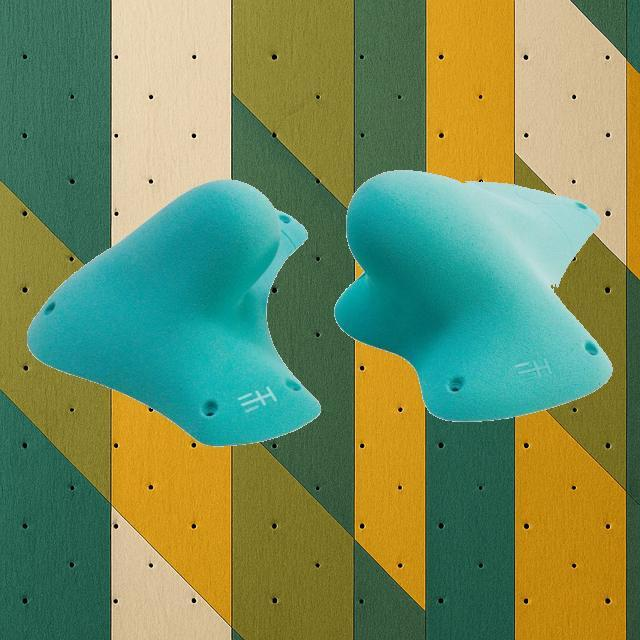Jug: (26, 178, 322, 446), (333, 168, 613, 422)
